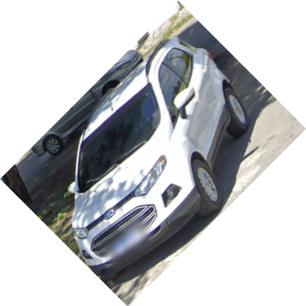car: (71, 35, 254, 266)
